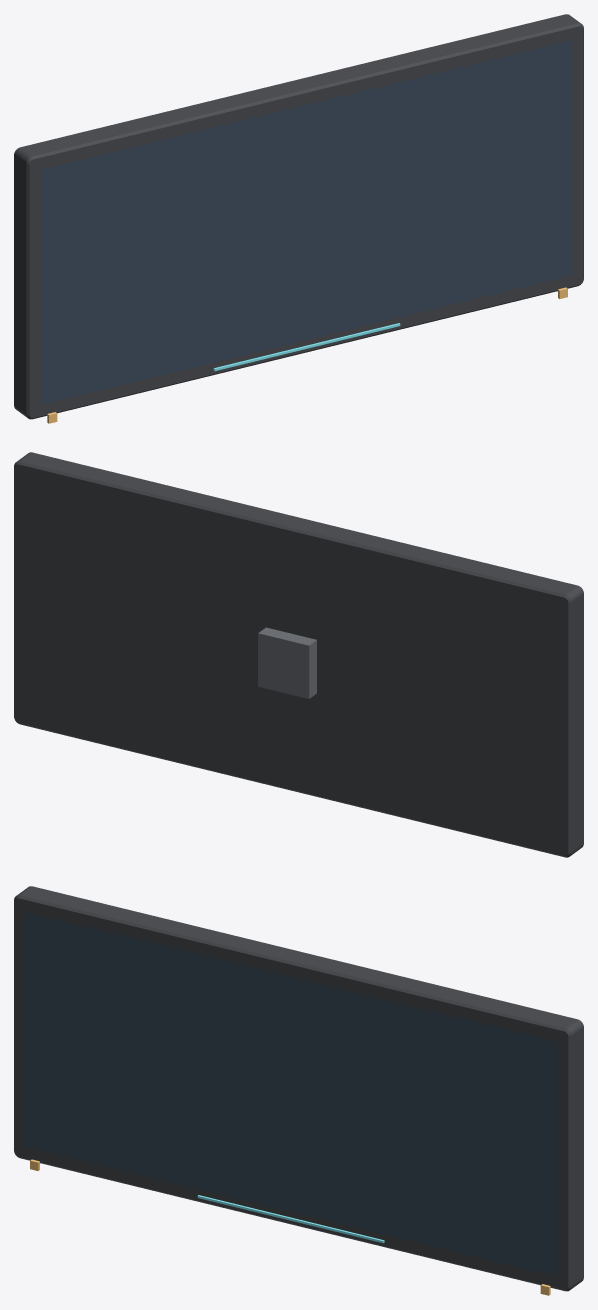
Rendered from Garage_Monitor_Wide.glb.
The picture shows the model from 3 angles, top to bottom: view 1: azimuth 30°, elevation 25°; view 2: azimuth 150°, elevation 25°; view 3: azimuth 330°, elevation 25°; orthographic projection.
Parts seen in each view (by area): view 1: Garage_Monitor_Wide; view 2: Garage_Monitor_Wide; view 3: Garage_Monitor_Wide.
Part boxes in pixels (x1=…): Garage_Monitor_Wide: x1=14, y1=14, x2=583, y2=423; Garage_Monitor_Wide: x1=14, y1=452, x2=583, y2=857; Garage_Monitor_Wide: x1=14, y1=886, x2=583, y2=1295.
Size of the model in its own units: 1.09 by 0.502 by 0.084.
